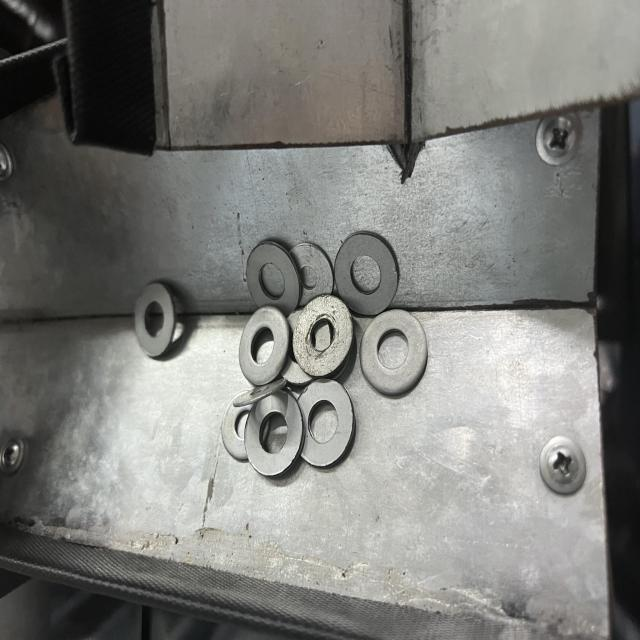washer: (360, 308, 430, 392), (290, 295, 353, 375)
